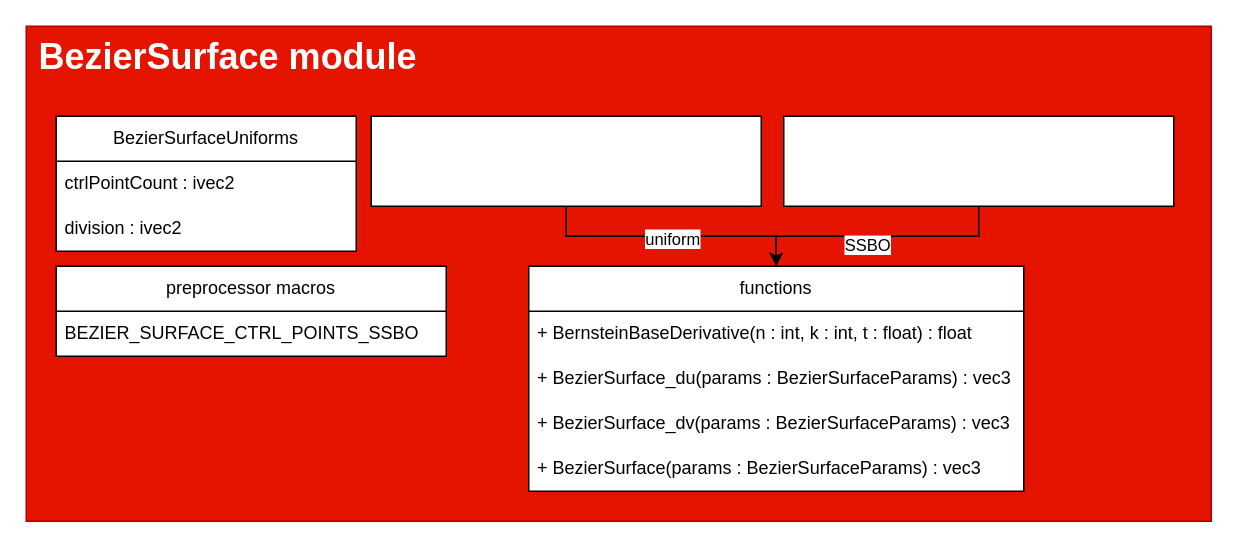
Some shapes in this 1238 by 548 pixel diagram are drawn without their labels. Each missing label, with the centre of its shape:
bezierSurfaceCtrlPoints : vec4[]: the point at 978,160
bezierSurfaceData : BezierSurfaceUniforms: the point at 565,160
